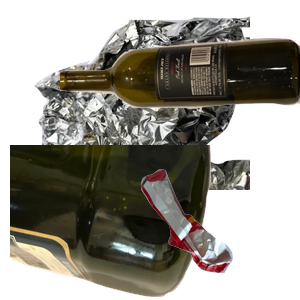glass: (60, 36, 300, 147)
metal: (19, 14, 259, 194)
plastic: (10, 145, 213, 300)
trash: (139, 167, 300, 300)
